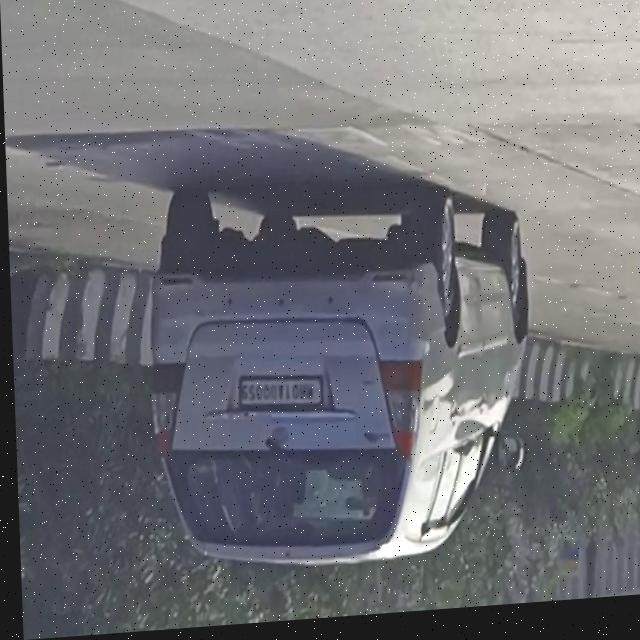plate: (231, 373, 320, 417)
